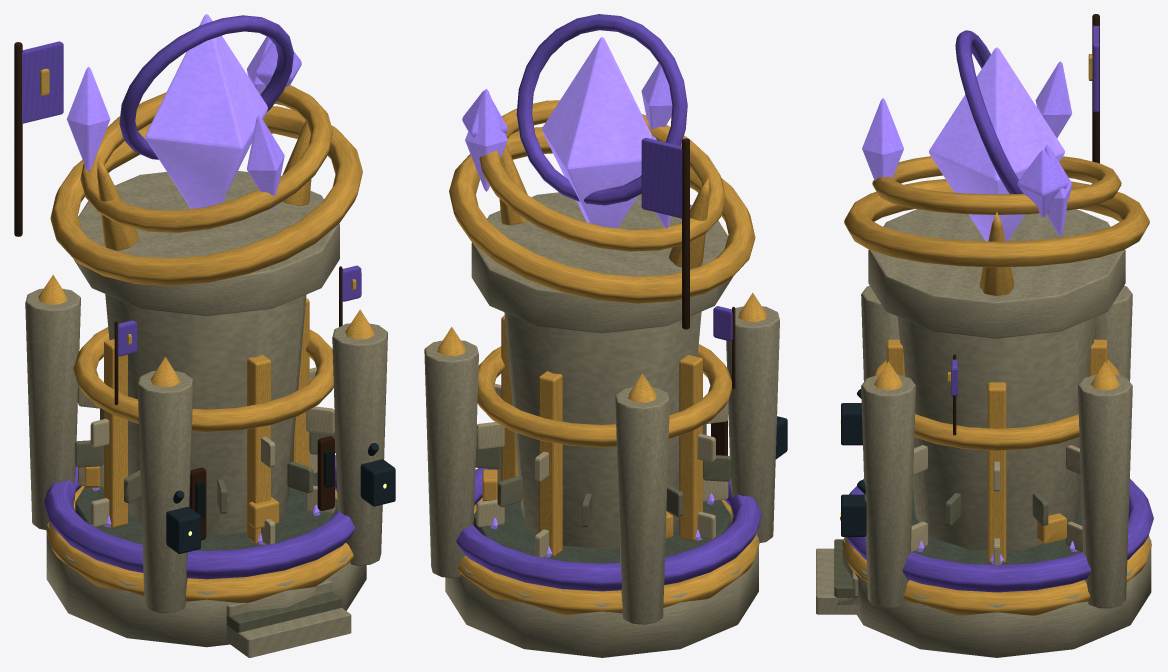
File: tower-arcane-3-0.glb
3 views of the same model, side by side, from view 1: azimuth 30°, elevation 25°; view 2: azimuth 150°, elevation 25°; view 3: azimuth 270°, elevation 25° (orthographic). The views are drawn at different scales.
Parts seen in each view (by area): view 1: Foundation, Turret, arcane-L3-0; view 2: Foundation, Turret, arcane-L3-0; view 3: Foundation, Turret, arcane-L3-0.
Part boxes in pixels (x1,y1,x2,y2): Foundation: (14, 41, 395, 657); Turret: (50, 14, 362, 315); arcane-L3-0: (46, 473, 366, 647); Foundation: (424, 138, 787, 624); Turret: (449, 14, 755, 333); arcane-L3-0: (445, 500, 758, 657); Foundation: (816, 14, 1153, 615); Turret: (844, 30, 1149, 338); arcane-L3-0: (842, 489, 1151, 657).
Size of the model in its own units: 1.71 by 3.32 by 1.84.
Materials: 17 (17 with a texture image).
